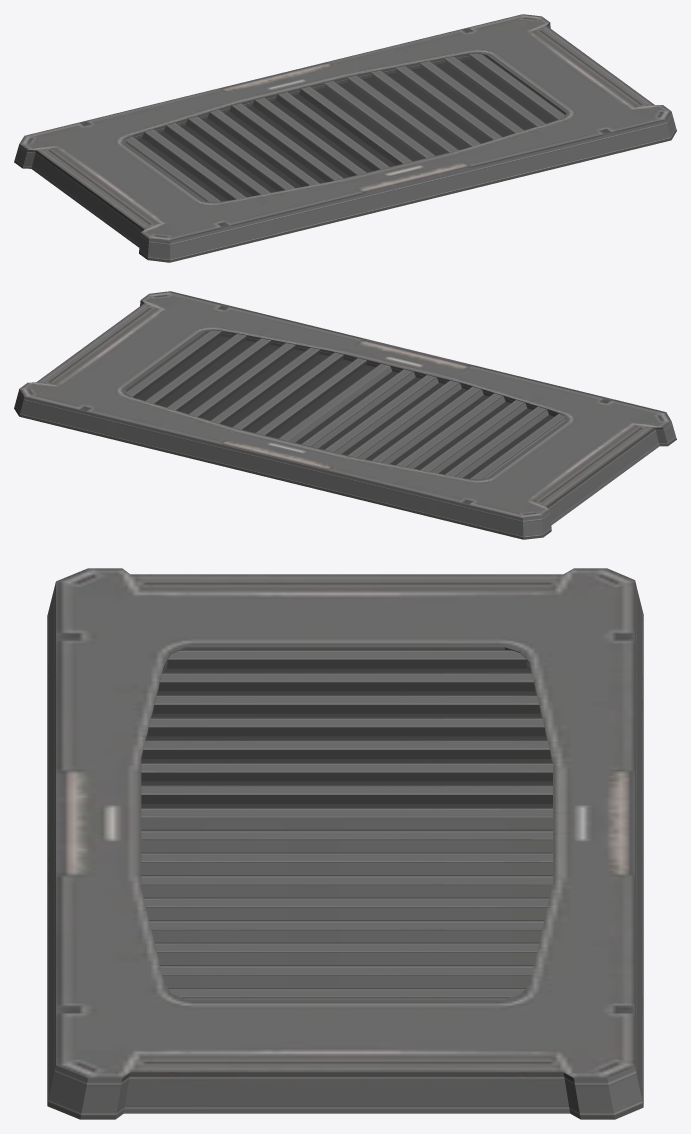
The model's file is vent.gltf.
3 renders of one model, top to bottom at view 1: azimuth 30°, elevation 25°; view 2: azimuth 150°, elevation 25°; view 3: azimuth 270°, elevation 25°, orthographic. The views are drawn at different scales.
Parts seen in each view (by area): view 1: Prop_Vent_Big; view 2: Prop_Vent_Big; view 3: Prop_Vent_Big.
Part boxes in pixels (x1=…): Prop_Vent_Big: x1=14, y1=14, x2=676, y2=262; Prop_Vent_Big: x1=14, y1=291, x2=676, y2=539; Prop_Vent_Big: x1=47, y1=568, x2=643, y2=1119.
Size of the model in its own units: 2 by 0.0688 by 0.9764.
Materials: 2 (2 with a texture image).
